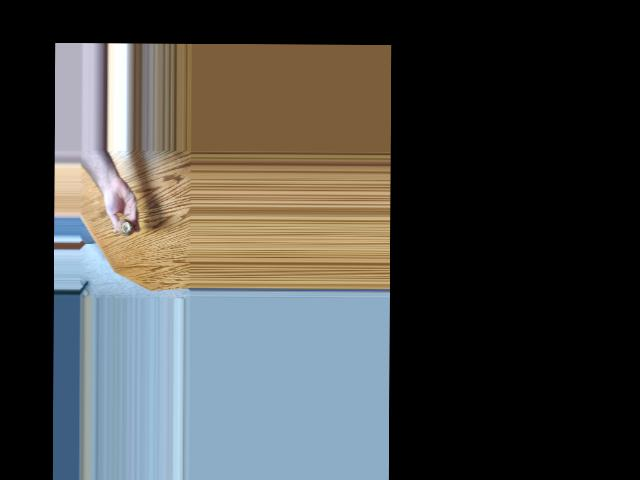sweet_potato: (115, 218, 131, 240)
